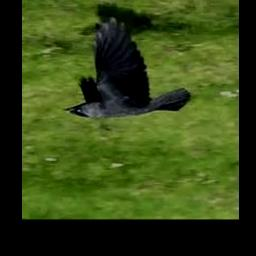Crow: (64, 16, 192, 120)
